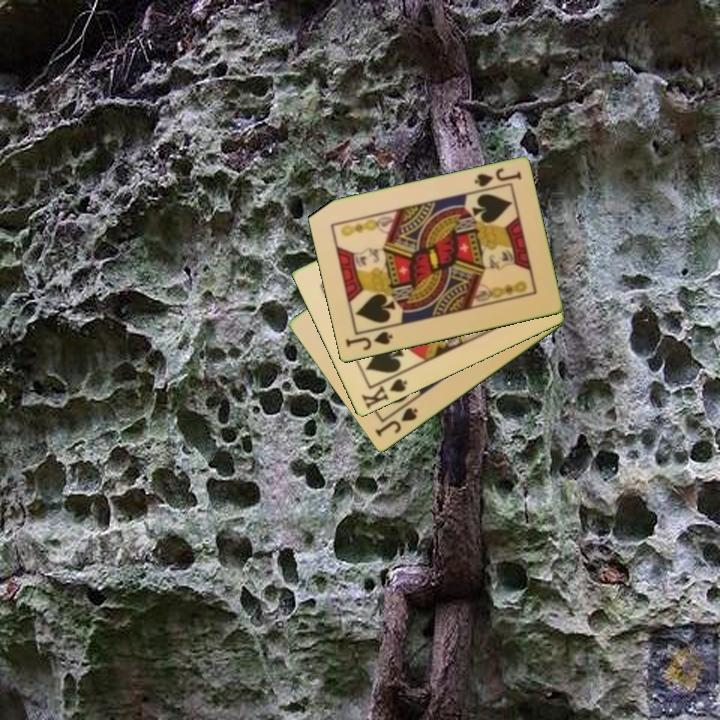Js: (371, 404, 421, 440), (342, 328, 396, 353), (471, 165, 524, 190)
Ks: (358, 375, 410, 412)
